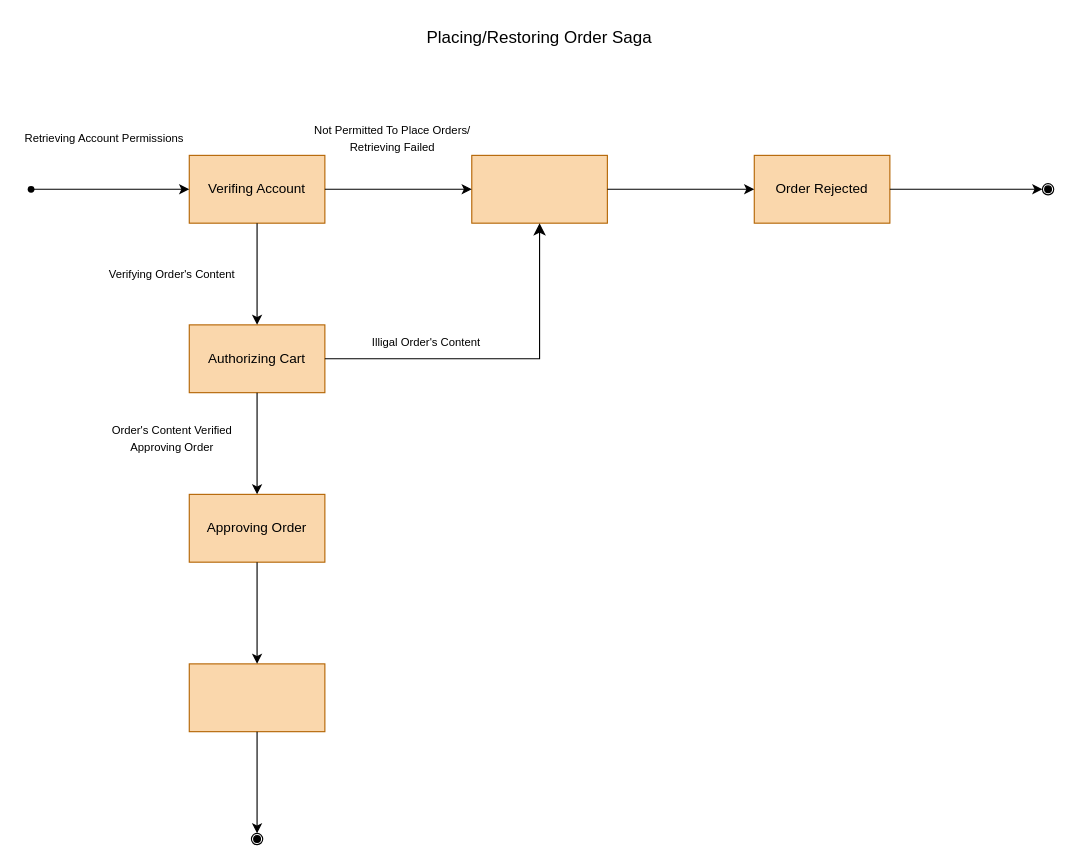
The diagram is 1074 pixels wide and 864 high, and some of its shapes have lost their labels. Each missing label, with the centre of its shape:
"Order Placed" belongs at (256,697).
"Rejecting Order" belongs at (539,188).
